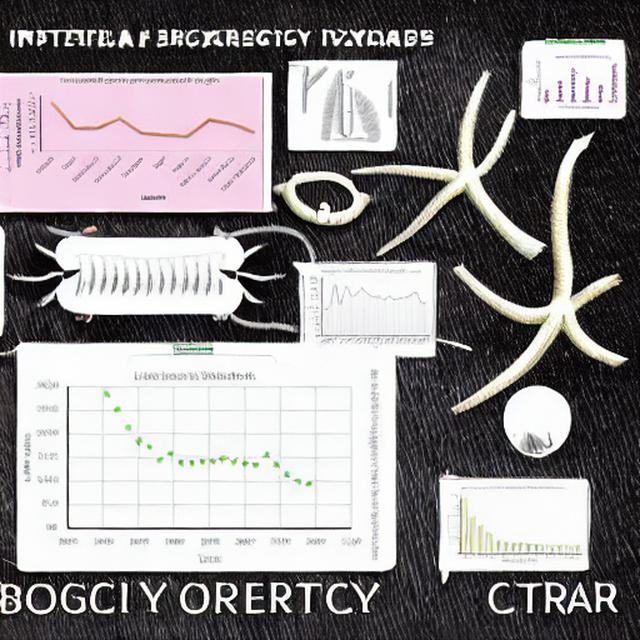Graph: (17, 365, 362, 565), (12, 76, 262, 209), (441, 483, 585, 568), (301, 267, 432, 352), (524, 53, 624, 111)
